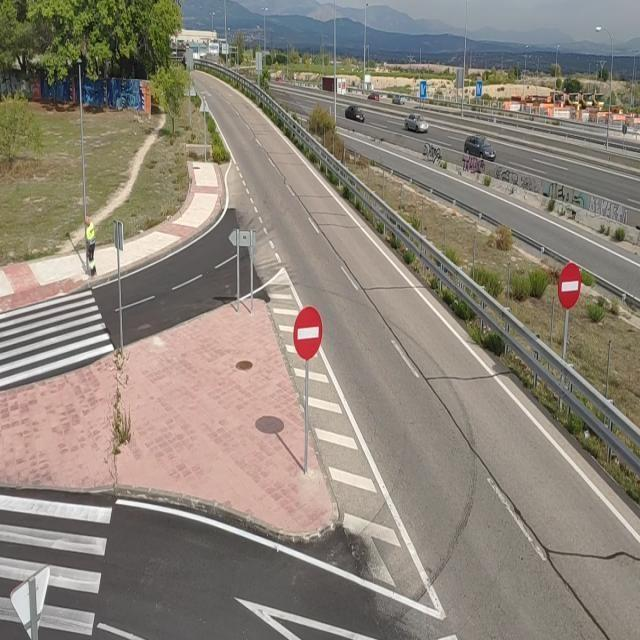Car: (464, 133, 496, 162), (404, 114, 429, 133), (344, 104, 366, 122), (392, 94, 407, 104), (367, 92, 380, 101)
